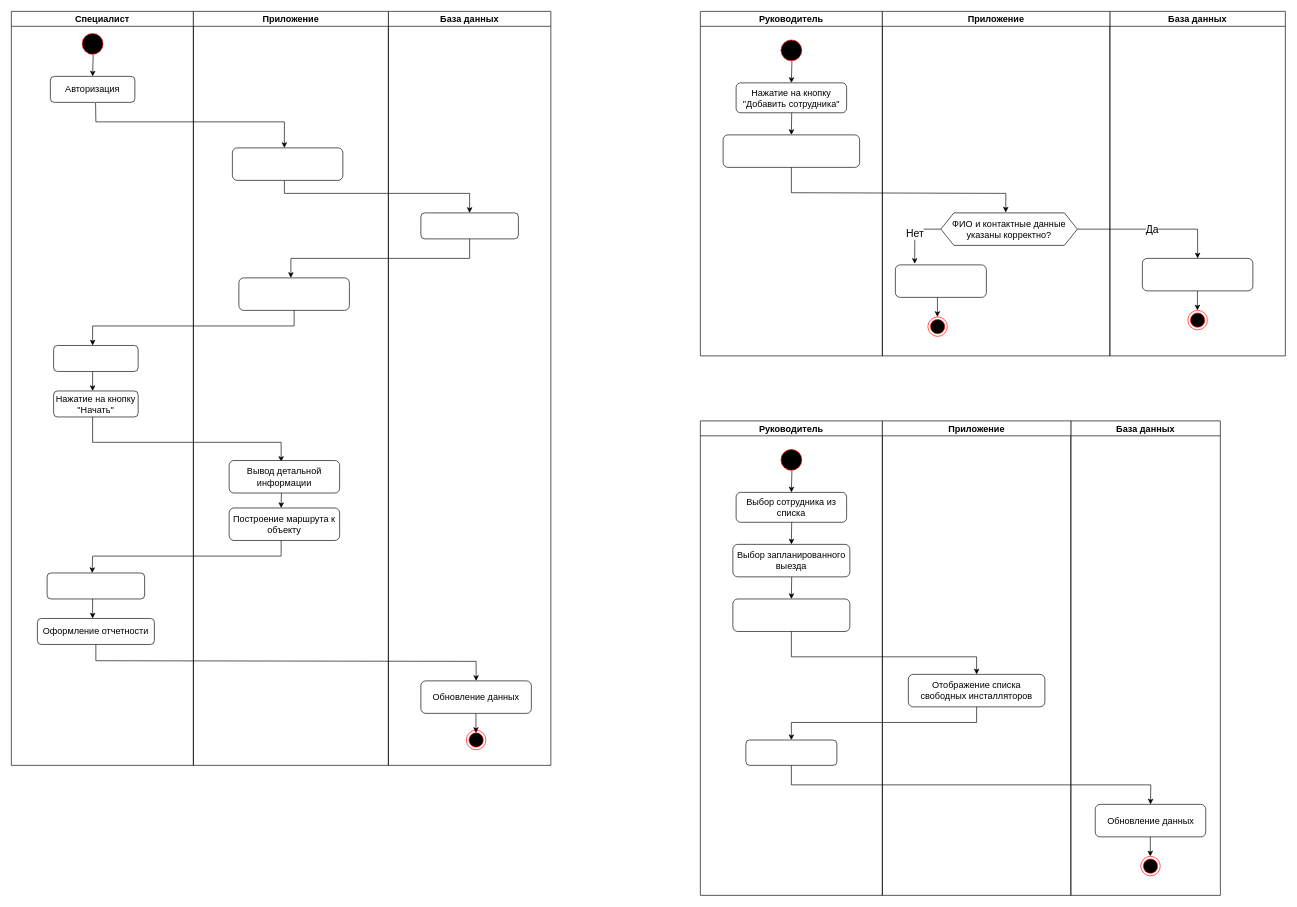
The diagram is 1297 pixels wide and 907 high, and some of its shapes have lost their labels. The box of each missing label's shape, as (x1, y1, x2, y2) in pixels:
Выбор заявки: (53, 345, 138, 371)
Выбор мастера: (745, 739, 837, 765)
Добавление новой строки: (1142, 258, 1253, 291)
Завершение выезда: (46, 572, 145, 599)
Загрузка списка заявок: (420, 212, 518, 239)
Заполнение данных во всплывающем окне: (722, 134, 860, 167)
Запрос к базе данных: (232, 147, 343, 180)
Нажатие на кнопку "Переназначить": (732, 598, 850, 631)
Отображение назначенных вызовов: (238, 277, 349, 310)
Сообщение "Неверный формат данных!": (895, 264, 986, 297)
